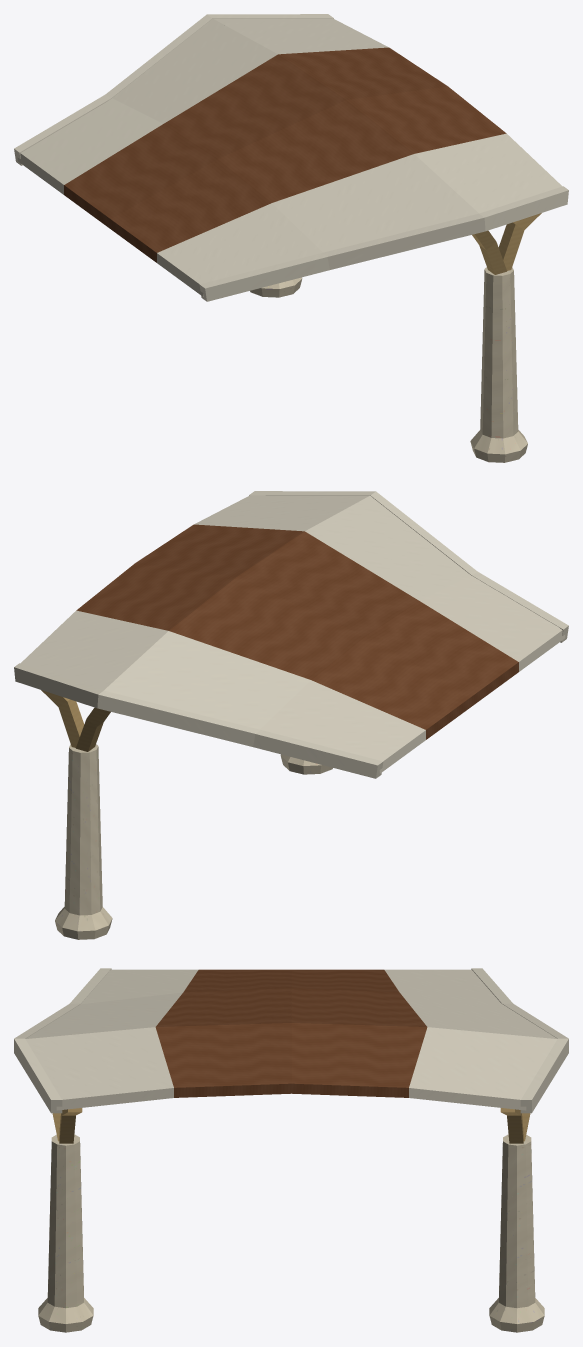
File: AST-GAR-005.glb
3 renders of one model, top to bottom at view 1: azimuth 30°, elevation 25°; view 2: azimuth 150°, elevation 25°; view 3: azimuth 270°, elevation 25°, orthographic.
Visible parts, largest first — view 1: POR_Runtime_ivory_enamel, POR_Runtime_warm_walnut, POR_Runtime_warm_stone, POR_Runtime_champagne_metal; view 2: POR_Runtime_ivory_enamel, POR_Runtime_warm_walnut, POR_Runtime_warm_stone, POR_Runtime_champagne_metal; view 3: POR_Runtime_ivory_enamel, POR_Runtime_warm_walnut, POR_Runtime_warm_stone, POR_Runtime_champagne_metal.
Part boxes in pixels (left/top/right/bottom): POR_Runtime_ivory_enamel: left=14, top=14, right=568, bottom=301; POR_Runtime_warm_walnut: left=64, top=47, right=506, bottom=262; POR_Runtime_warm_stone: left=250, top=267, right=527, bottom=462; POR_Runtime_champagne_metal: left=472, top=213, right=541, bottom=274; POR_Runtime_ivory_enamel: left=14, top=491, right=568, bottom=778; POR_Runtime_warm_walnut: left=76, top=524, right=518, bottom=739; POR_Runtime_warm_stone: left=55, top=744, right=332, bottom=939; POR_Runtime_champagne_metal: left=41, top=690, right=110, bottom=751; POR_Runtime_ivory_enamel: left=14, top=968, right=568, bottom=1113; POR_Runtime_warm_walnut: left=155, top=969, right=427, bottom=1097; POR_Runtime_warm_stone: left=38, top=1134, right=544, bottom=1332; POR_Runtime_champagne_metal: left=52, top=1108, right=530, bottom=1143.
Bounding box in the file's own units: 6.33 × 4.98 × 8.98.
Materials: 5 (4 with a texture image).
